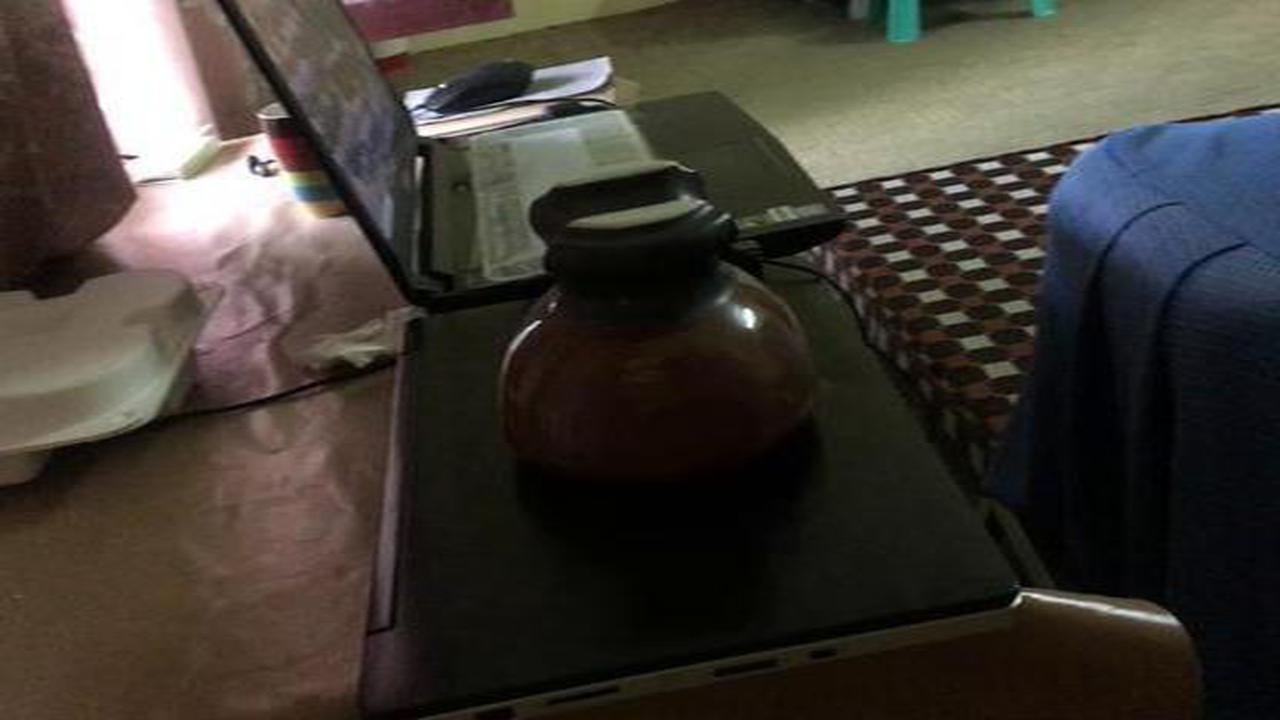insulator_pin: (487, 156, 834, 509)
